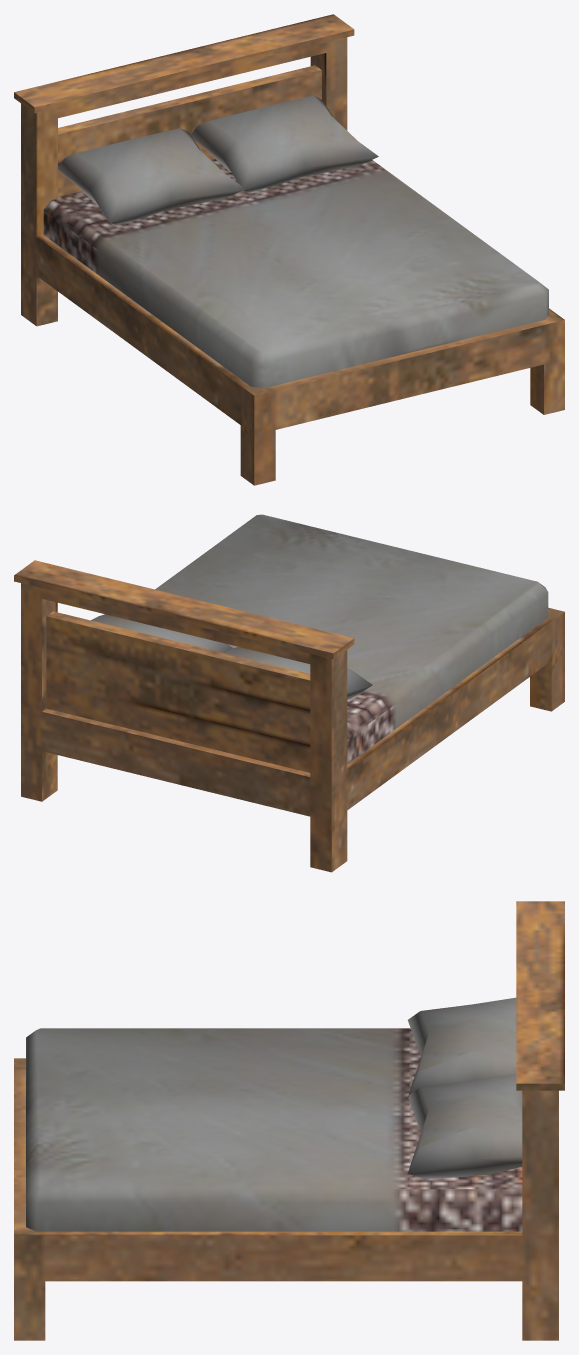
The model's file is bed_01-col.glb.
3 views of the same model, one above another, from view 1: azimuth 30°, elevation 25°; view 2: azimuth 150°, elevation 25°; view 3: azimuth 270°, elevation 25° (orthographic). The views are drawn at different scales.
Parts seen in each view (by area): view 1: bed_01-col; view 2: bed_01-col; view 3: bed_01-col.
Part boxes in pixels (<box>): bed_01-col: <box>14,14,564,485</box>; bed_01-col: <box>14,514,564,872</box>; bed_01-col: <box>14,901,564,1340</box>.
Size of the model in its own units: 2.13 by 1.42 by 2.72.
1 material, 1 textured.
